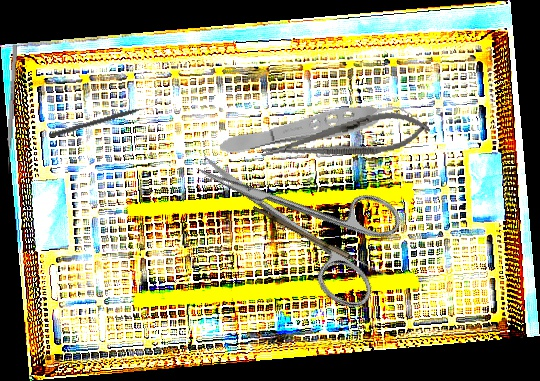Iris Scissors: (173, 110, 416, 316)
Needle Holder: (257, 104, 433, 173)
Pusher: (49, 103, 156, 139), (5, 44, 18, 175)
Surgical Spoon: (250, 205, 388, 278)
Tissue Forceps: (216, 94, 421, 164)
